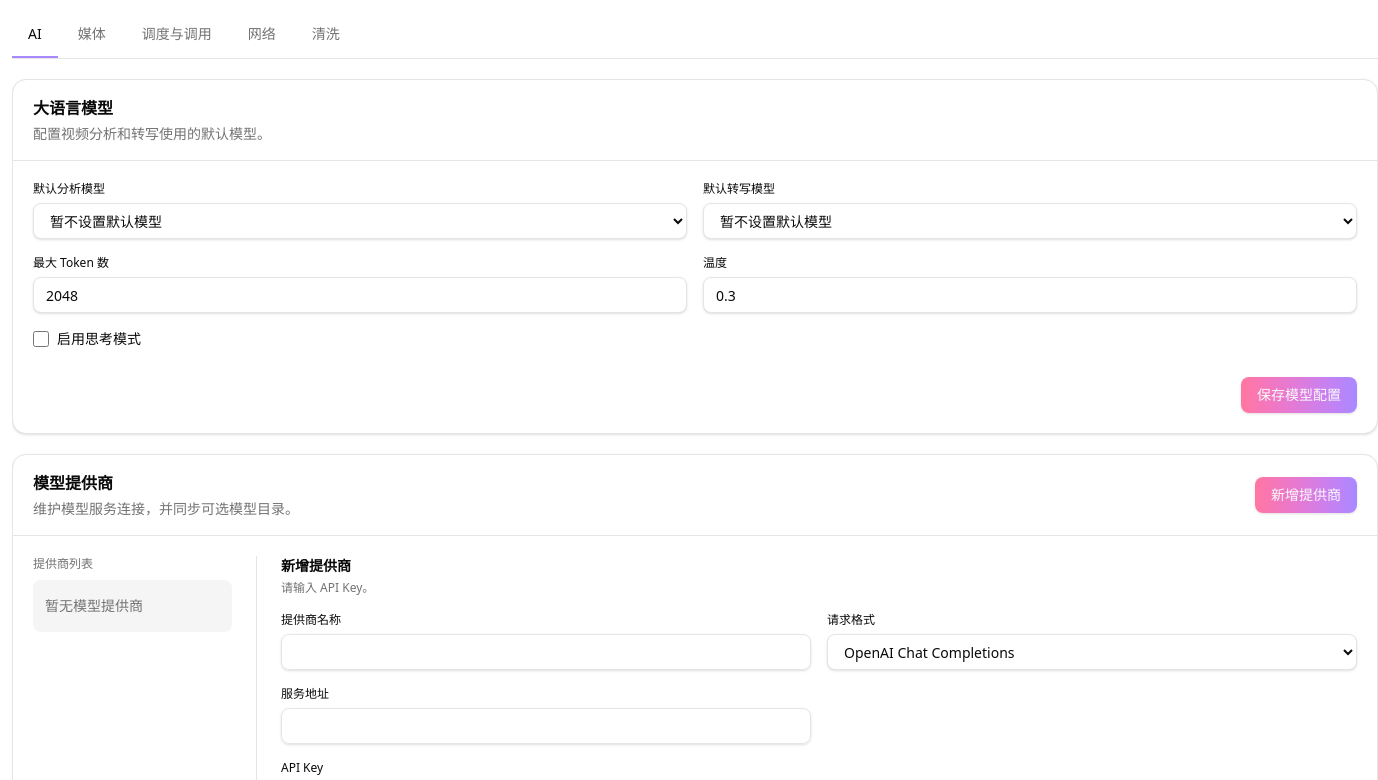
Test case: 系统设置 › 提供五个可访问页签并按职责切换配置卡
The image size is (1378, 780).
Click the tab "调度与调用": [177, 35] box [126,12,228,58]
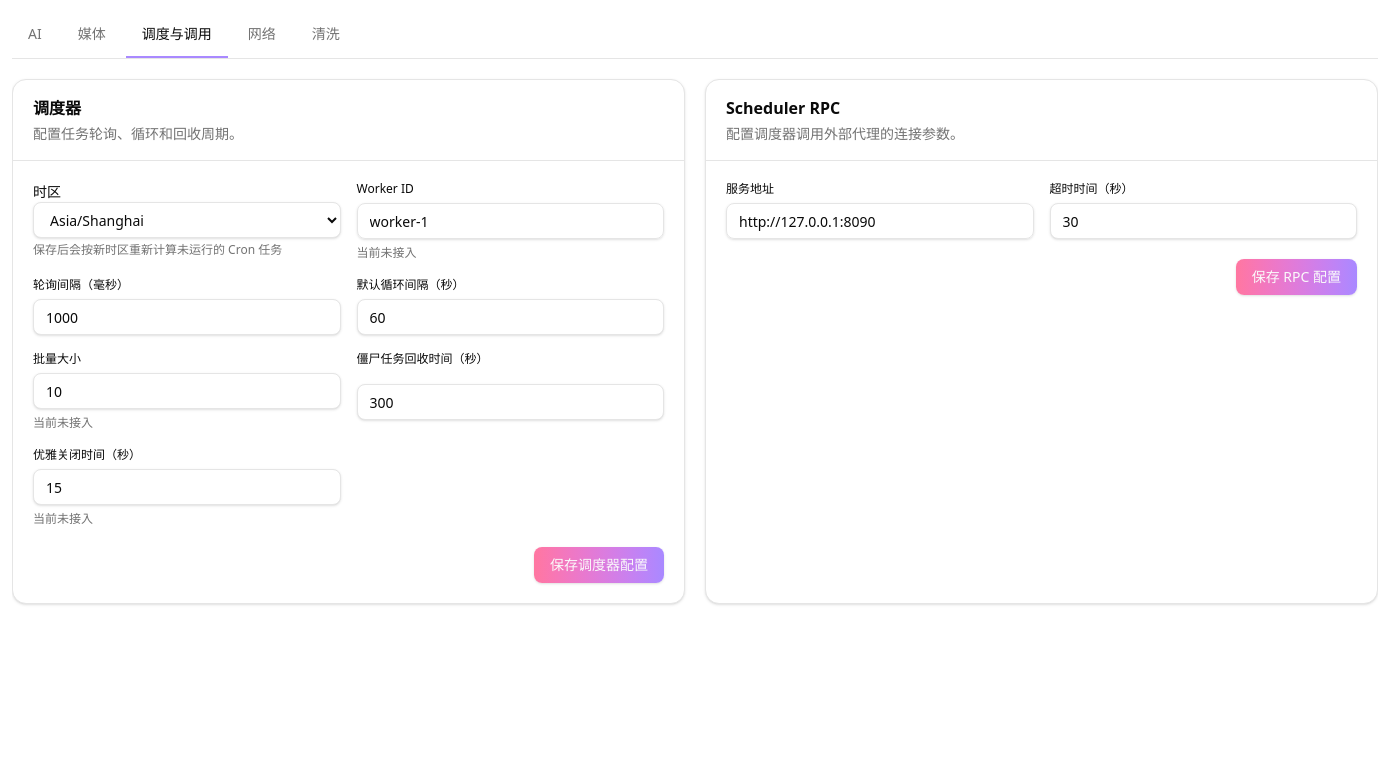
Expected: the heading "调度器" is shown, [33,97,81,119]
Expected: the text "当前未接入" is shown 5 times
